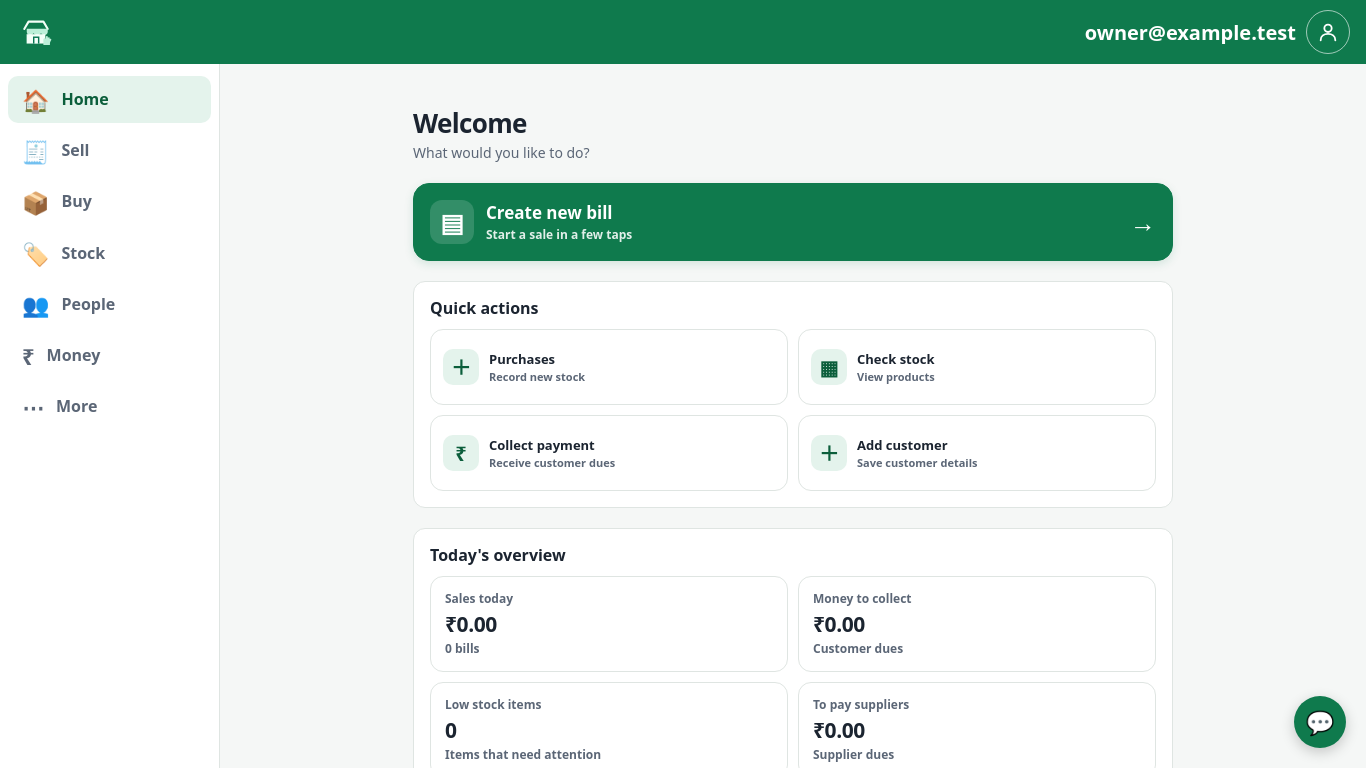
theme toggle (H4) › defaults to light and applies the data-theme attribute
Click the button named "Profile menu".
click(1328, 32)  # box [1306, 10, 1350, 54]
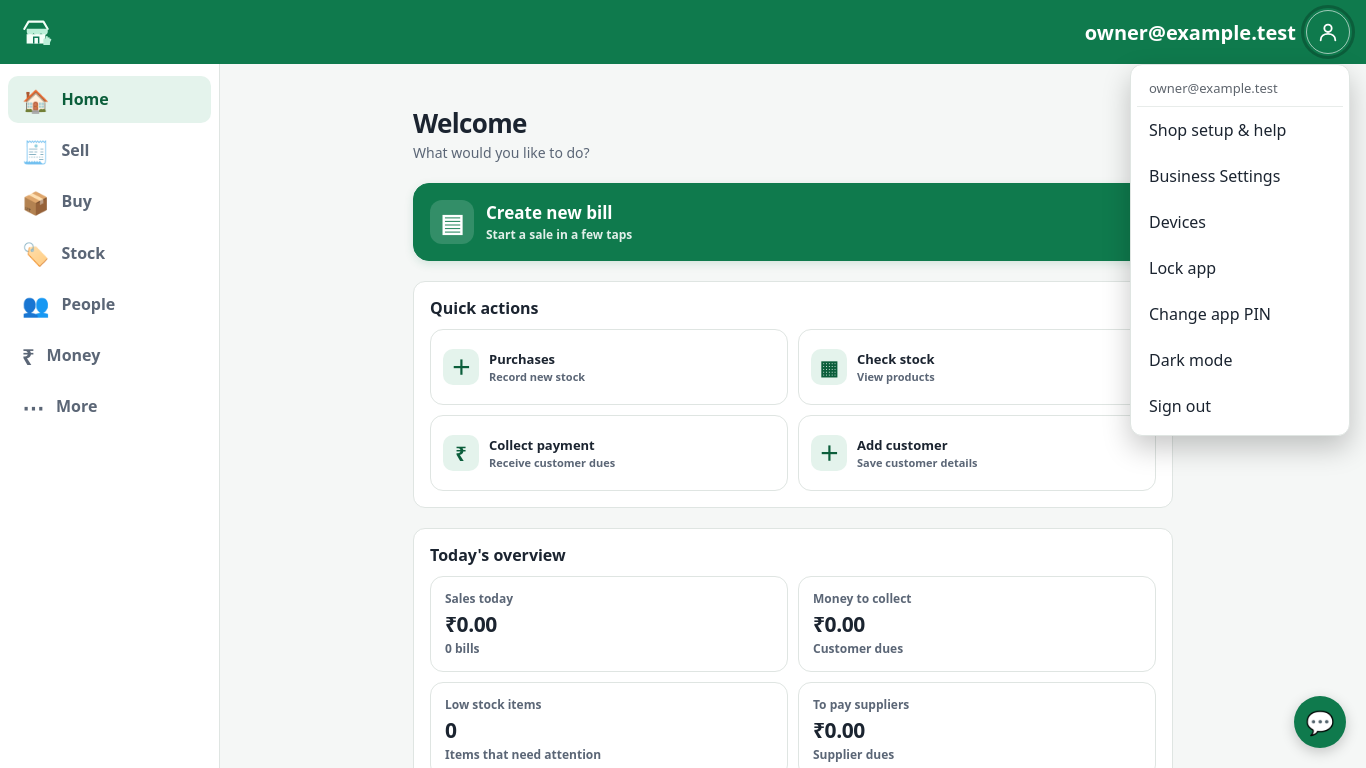
Check: the menu item "Dark mode" is shown, box [1137, 339, 1343, 383]
